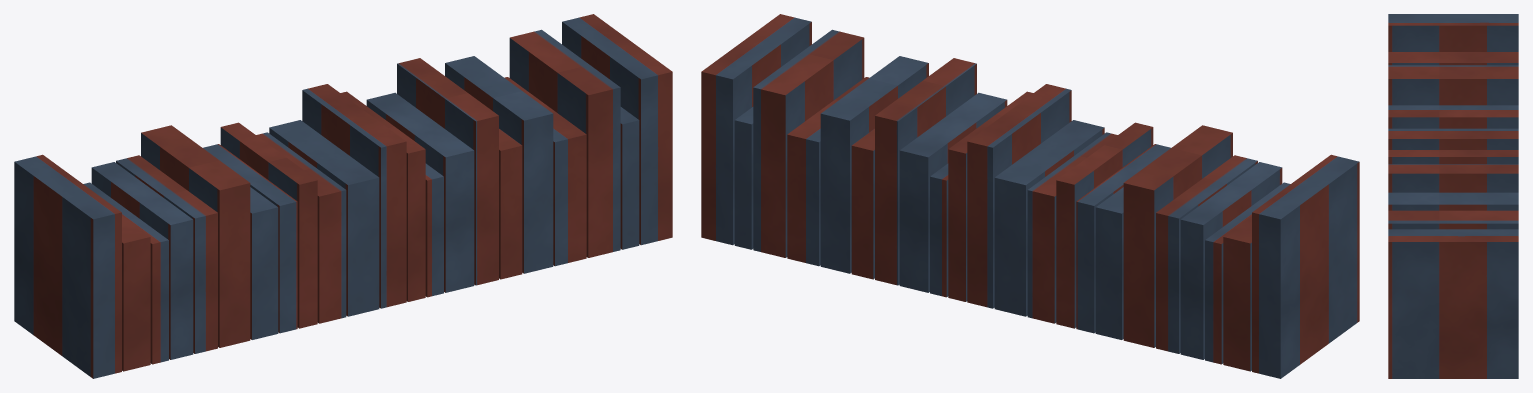
The model's file is BookGroup_Medium_1.gltf.
The picture shows the model from 3 angles, left to right: view 1: azimuth 30°, elevation 25°; view 2: azimuth 150°, elevation 25°; view 3: azimuth 270°, elevation 25°; orthographic projection. The views are drawn at different scales.
Parts seen in each view (by area): view 1: BookGroup_Medium_1; view 2: BookGroup_Medium_1; view 3: BookGroup_Medium_1.
Part boxes in pixels (x1,y1,x2,y2): BookGroup_Medium_1: [14, 14, 672, 378]; BookGroup_Medium_1: [701, 14, 1359, 378]; BookGroup_Medium_1: [1388, 14, 1518, 378].
Bounding box in the file's own units: 1.06 × 0.29 × 0.25.
Materials: 1 (1 with a texture image).
